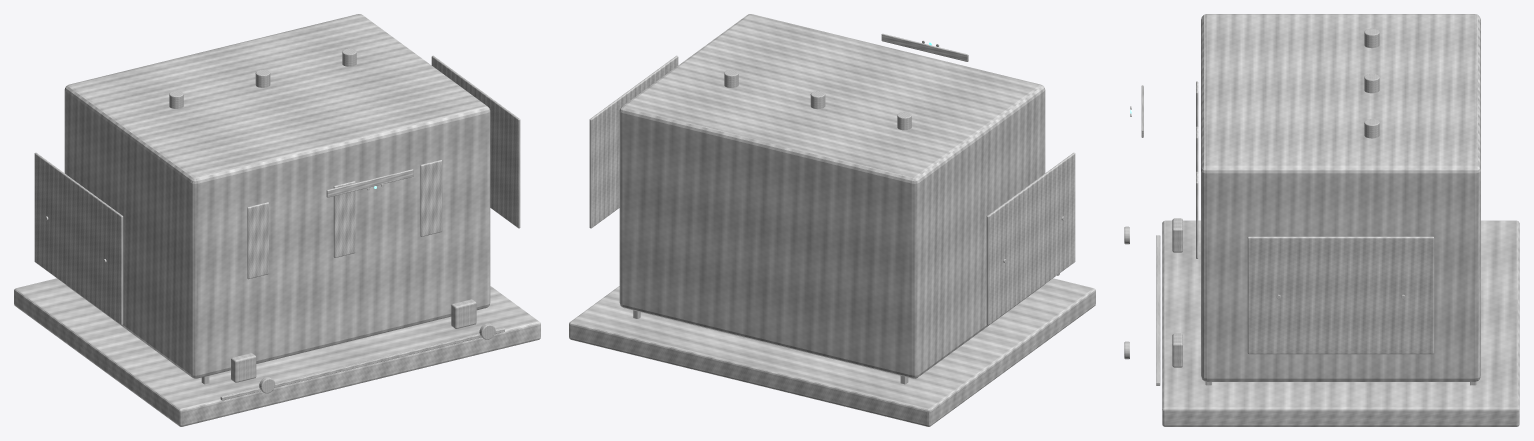
The model's file is manufacturer_variant_d.glb.
3 renders of one model, left to right at view 1: azimuth 30°, elevation 25°; view 2: azimuth 150°, elevation 25°; view 3: azimuth 270°, elevation 25°, orthographic. The views are drawn at different scales.
Parts seen in each view (by area): view 1: Main machine shell.003, Foundation skid.003, Side access panel.006, Side access panel.007, Workcell viewing window.011, Workcell viewing window.009, Workcell viewing window.010, Amber safety sill, Status panel.003, Input output port.007, Input output port.006; view 2: Main machine shell.003, Foundation skid.003, Side access panel.006, Side access panel.007, Status panel.003; view 3: Main machine shell.003, Foundation skid.003, Side access panel.007, Amber safety sill, Input output port.006, Input output port.007.
Boxes of the visible parts, x1,y1,x2,y2 form: Main machine shell.003: (64,14,490,378); Foundation skid.003: (14,278,540,426); Side access panel.006: (34,152,123,325); Side access panel.007: (431,55,520,228); Workcell viewing window.011: (420,160,442,236); Workcell viewing window.009: (247,202,268,279); Workcell viewing window.010: (333,181,355,257); Amber safety sill: (220,327,504,400); Status panel.003: (326,169,413,197); Input output port.007: (451,299,476,328); Input output port.006: (231,353,256,382); Main machine shell.003: (619,14,1045,378); Foundation skid.003: (569,278,1095,426); Side access panel.006: (986,152,1075,325); Side access panel.007: (589,55,678,228); Status panel.003: (881,33,968,61); Main machine shell.003: (1201,14,1480,381); Foundation skid.003: (1162,220,1519,426); Side access panel.007: (1247,236,1434,354); Amber safety sill: (1156,235,1160,385); Input output port.006: (1172,218,1182,252); Input output port.007: (1172,333,1182,367).
Size of what is drawn, in the model's own units: 10.29 by 5.83 by 8.14.
6 materials, 6 textured.
